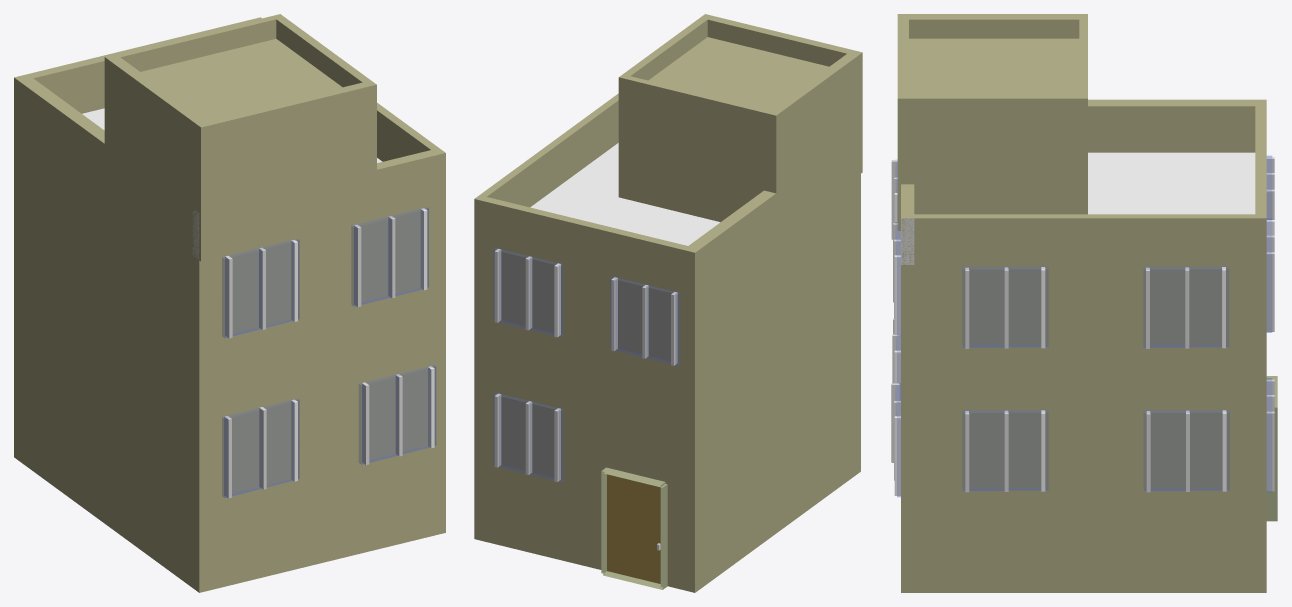
Rendered from staff1.gltf.
3 renders of one model, left to right at view 1: azimuth 30°, elevation 25°; view 2: azimuth 150°, elevation 25°; view 3: azimuth 270°, elevation 25°, orthographic. The views are drawn at different scales.
Visible parts, largest first — view 1: Cube, Cube.001, Cube.032, Cube.040, Cube.044, Cube.036, Cube.039, Cube.041, Cube.043, Cube.033, Cube.035, Cube.045 (+6 smaller); view 2: Cube, Cube.001, Cube.004, Cube.008, Cube.012, Cube.002, Cube.003, Cube.015, Cube.007, Cube.013, Cube.006, Cube.014 (+3 smaller); view 3: Cube, Cube.001, Cube.024, Cube.020, Cube.028, Cube.016, Cube.004, Cube.015, Cube.007, Cube.002, Cube.012, Cube.034 (+1 smaller).
Boxes of the visible parts, x1,y1,x2,y2 form: Cube: (14,17,445,592); Cube.001: (104,14,376,261); Cube.032: (351,207,428,306); Cube.040: (222,399,299,497); Cube.044: (359,365,435,464); Cube.036: (222,239,299,337); Cube.039: (225,255,232,338); Cube.041: (259,407,266,489); Cube.043: (224,416,231,498); Cube.033: (388,216,395,298); Cube.035: (354,224,361,306); Cube.045: (395,374,402,456); Cube: (474,93,860,592); Cube.001: (618,14,862,222); Cube.004: (601,467,667,589); Cube.008: (610,277,679,365); Cube.012: (494,393,563,481); Cube.002: (494,248,563,336); Cube.003: (525,256,532,330); Cube.015: (494,393,501,467); Cube.007: (494,248,501,322); Cube.013: (525,401,532,474); Cube.006: (554,263,560,337); Cube.014: (554,408,560,482); Cube: (901,99,1266,592); Cube.001: (897,14,1087,230); Cube.024: (962,410,1048,490); Cube.020: (962,267,1048,347); Cube.028: (1144,410,1229,490); Cube.016: (1143,267,1228,347); Cube.004: (1266,376,1277,521); Cube.015: (1266,411,1274,491); Cube.007: (1266,252,1274,331); Cube.002: (1267,218,1271,332); Cube.012: (1267,378,1271,491); Cube.034: (894,255,900,334).
Size of the model in its own units: 6.76 by 11.81 by 8.97.
